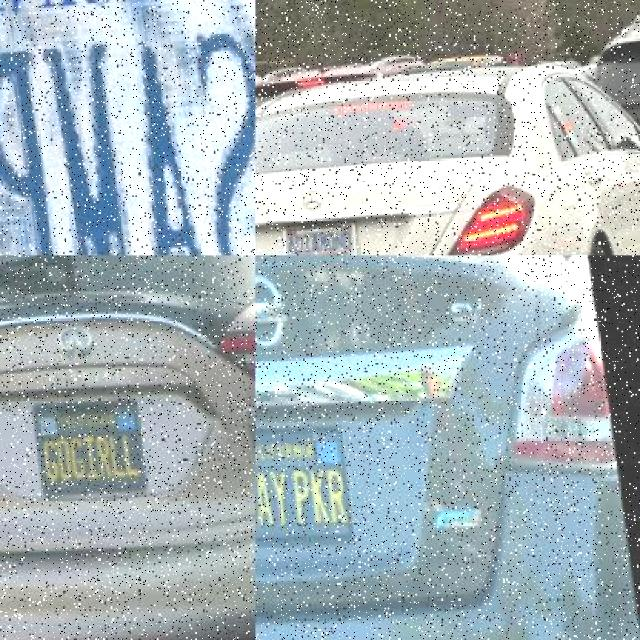licenseplate: (0, 0, 255, 255), (28, 393, 138, 510), (255, 420, 348, 552), (275, 224, 350, 255)
